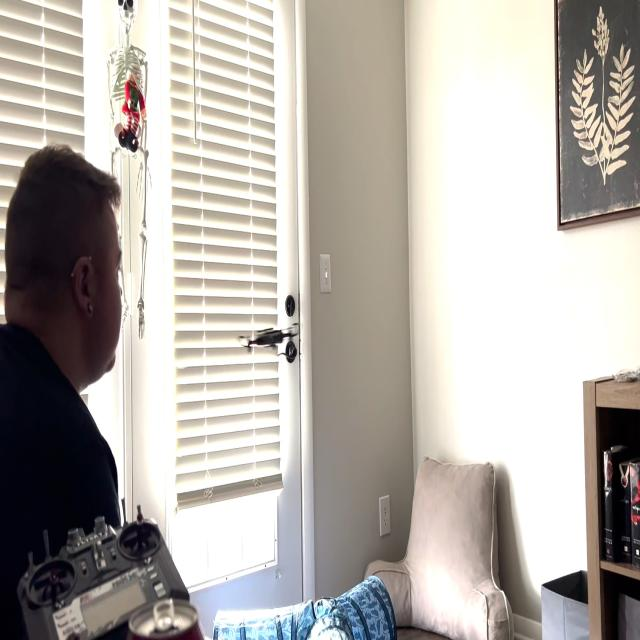drone: (232, 312, 308, 365)
